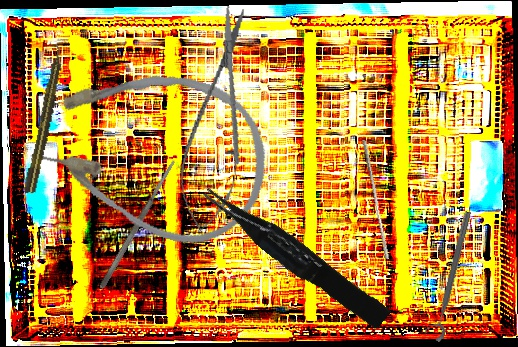Cannula: (18, 42, 285, 260)
Fixation Ring: (422, 208, 475, 343)
Handpiece: (22, 43, 68, 195)
Micro Scissor: (171, 2, 265, 236)
Pusher: (357, 139, 394, 260)
Spatula Surgical: (97, 157, 179, 291)
Tissue Forceps: (199, 172, 392, 338)
